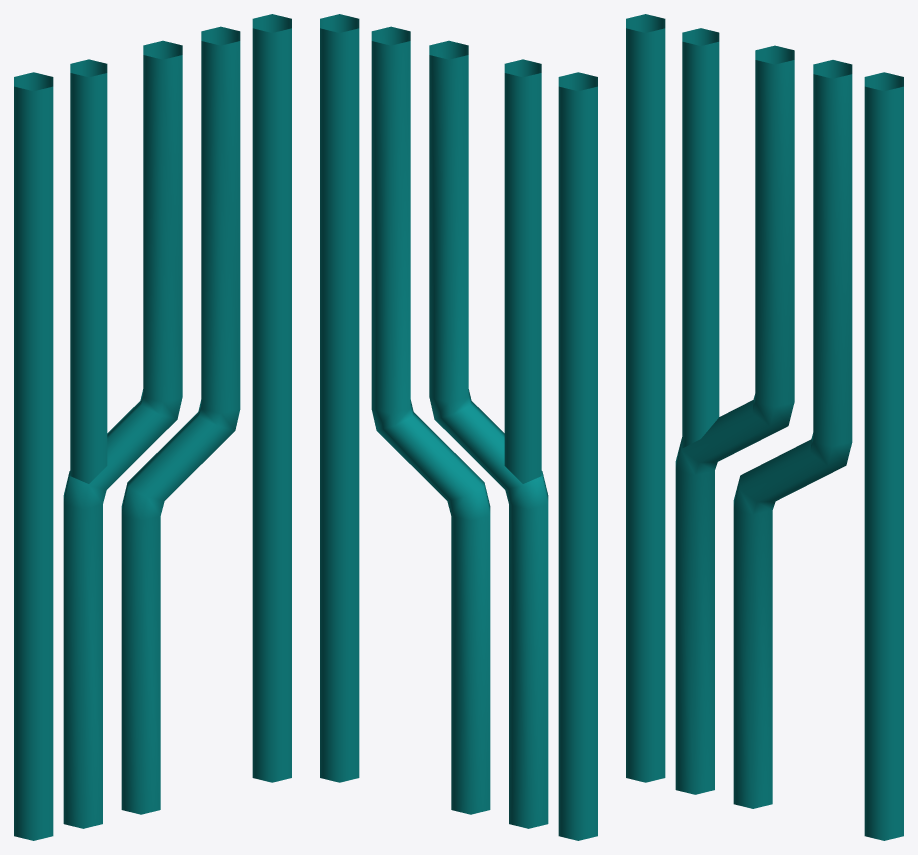
Rendered from Pipes 1.fbx.
3 views of the same model, side by side, from view 1: azimuth 30°, elevation 25°; view 2: azimuth 150°, elevation 25°; view 3: azimuth 330°, elevation 25° (orthographic).
Parts seen in each view (by area): view 1: Pipes 1; view 2: Pipes 1; view 3: Pipes 1.
Part boxes in pixels (x1,y1,x2,y2): Pipes 1: (14, 14, 291, 840); Pipes 1: (320, 14, 597, 840); Pipes 1: (626, 14, 903, 840).
Size of the model in its own units: 96.29 by 248 by 11.74.
